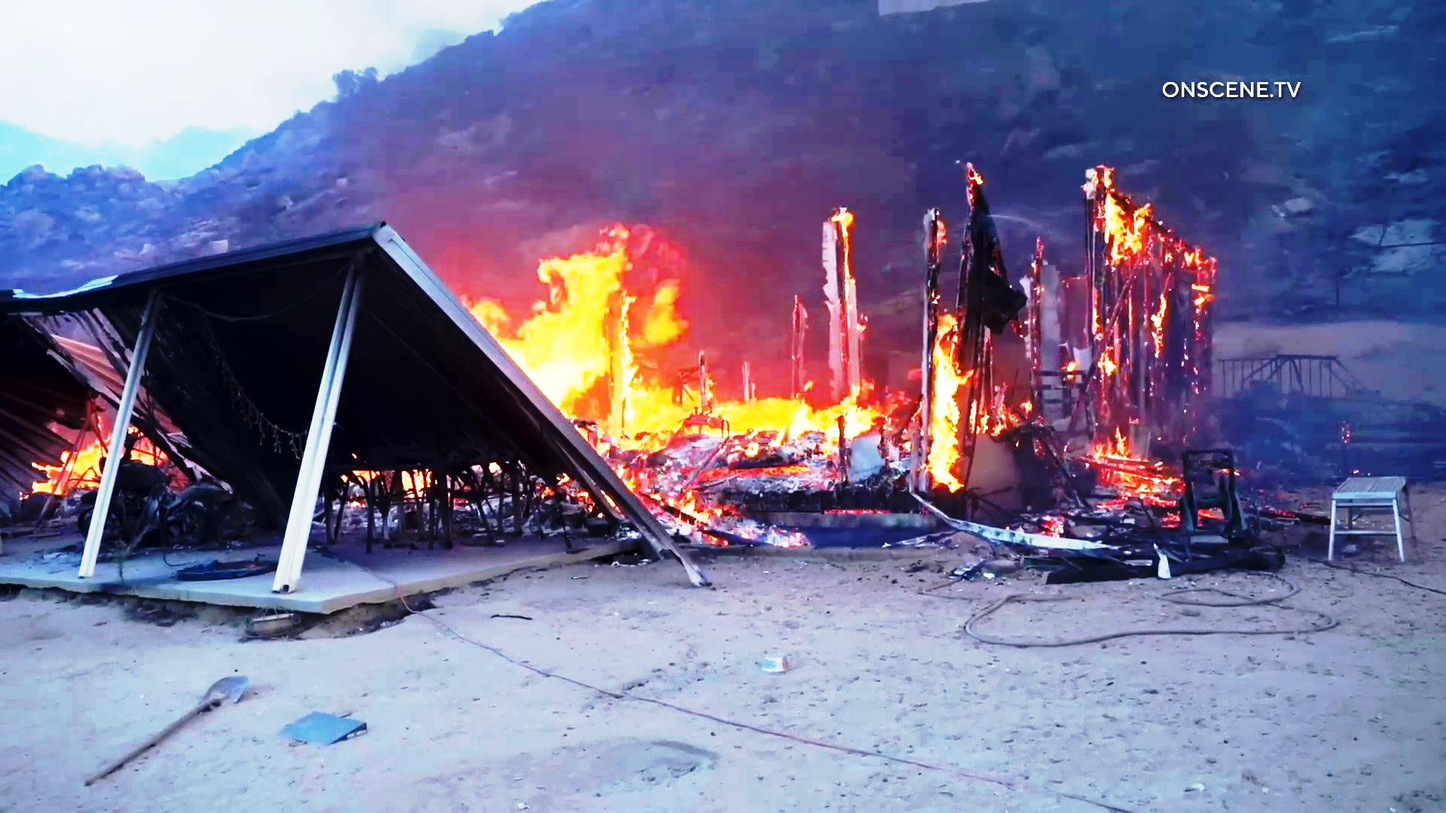fire: (494, 215, 671, 451), (677, 369, 897, 448)
